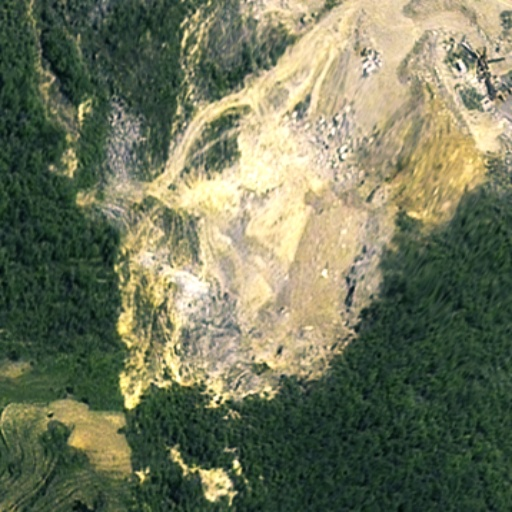landslide: (123, 38, 466, 406)
